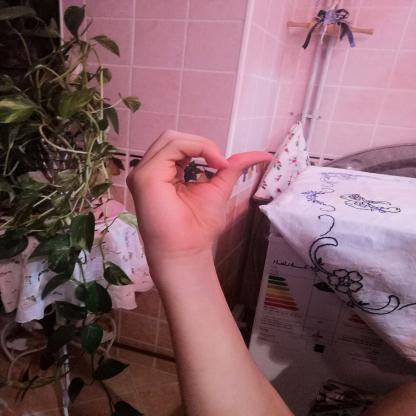WAW: (110, 120, 290, 273)
